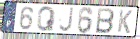6: (77, 6, 94, 35), (20, 6, 35, 31)
B: (95, 8, 116, 35)
J: (58, 7, 75, 33)
K: (116, 9, 133, 35)
Q: (36, 6, 57, 32)
